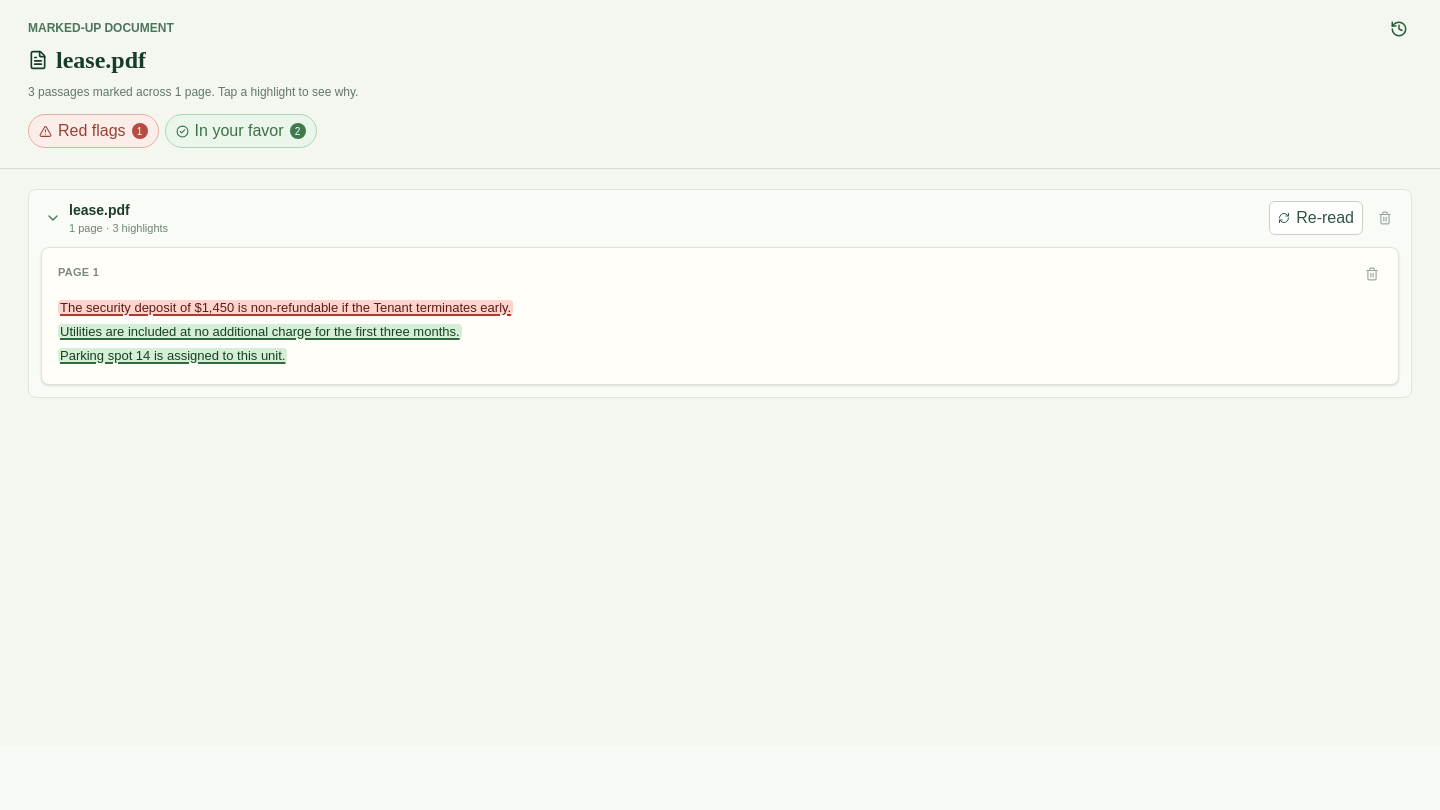
Scenario: a highlight the chat added › paints it, names it, and says it came from the chat
Click the button "Parking spot 14 is assigned to this unit.": [173, 355] box [58, 348, 288, 362]
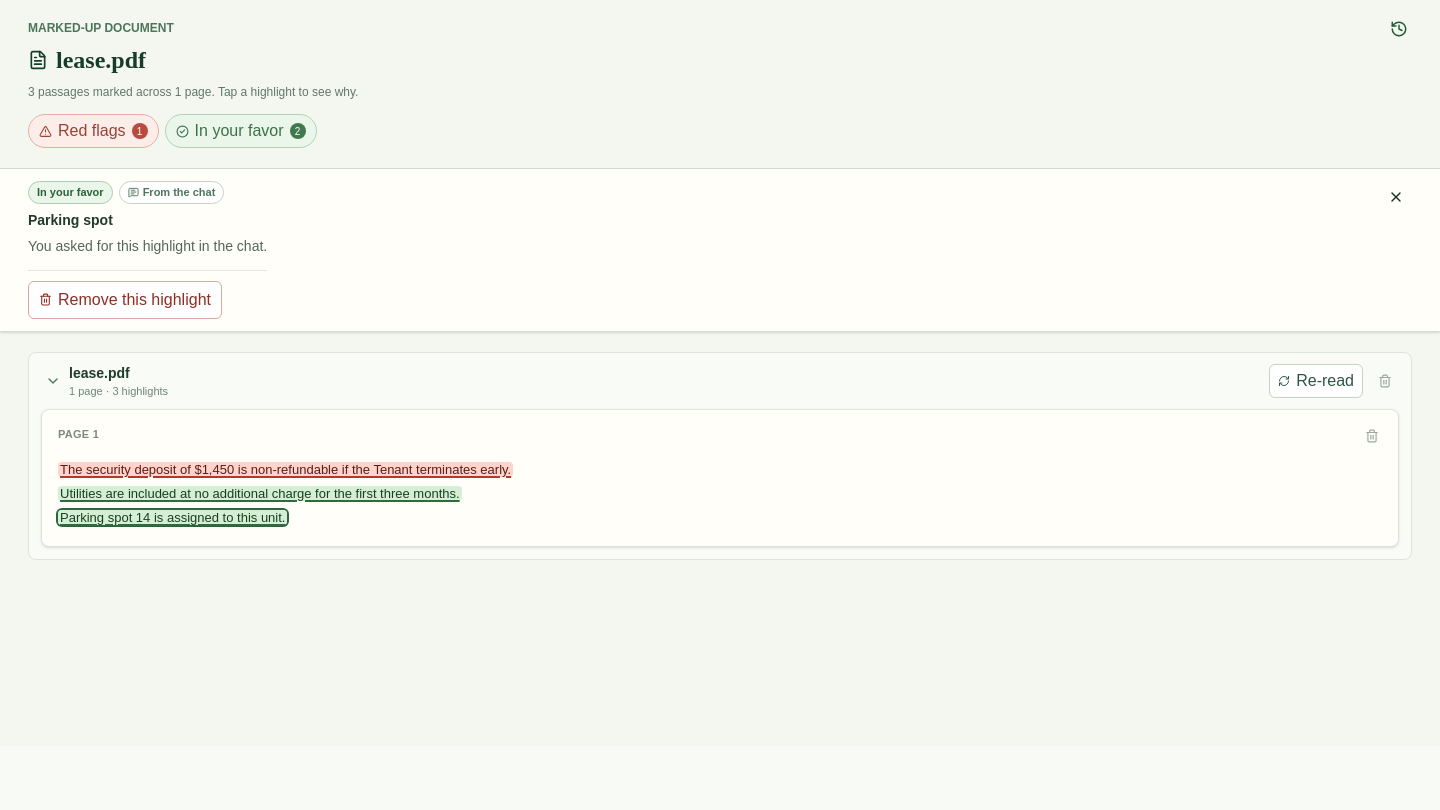
Check: the heading "Parking spot" is shown, box [28, 212, 113, 228]
Check: the text "From the chat" is shown, box [119, 181, 224, 204]
